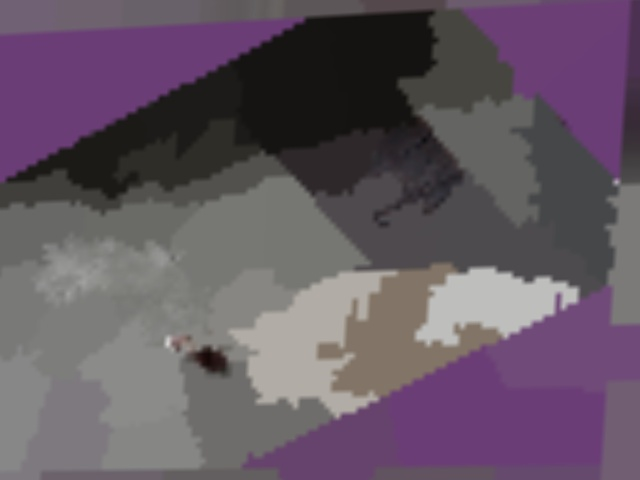three: (460, 272, 522, 316)
